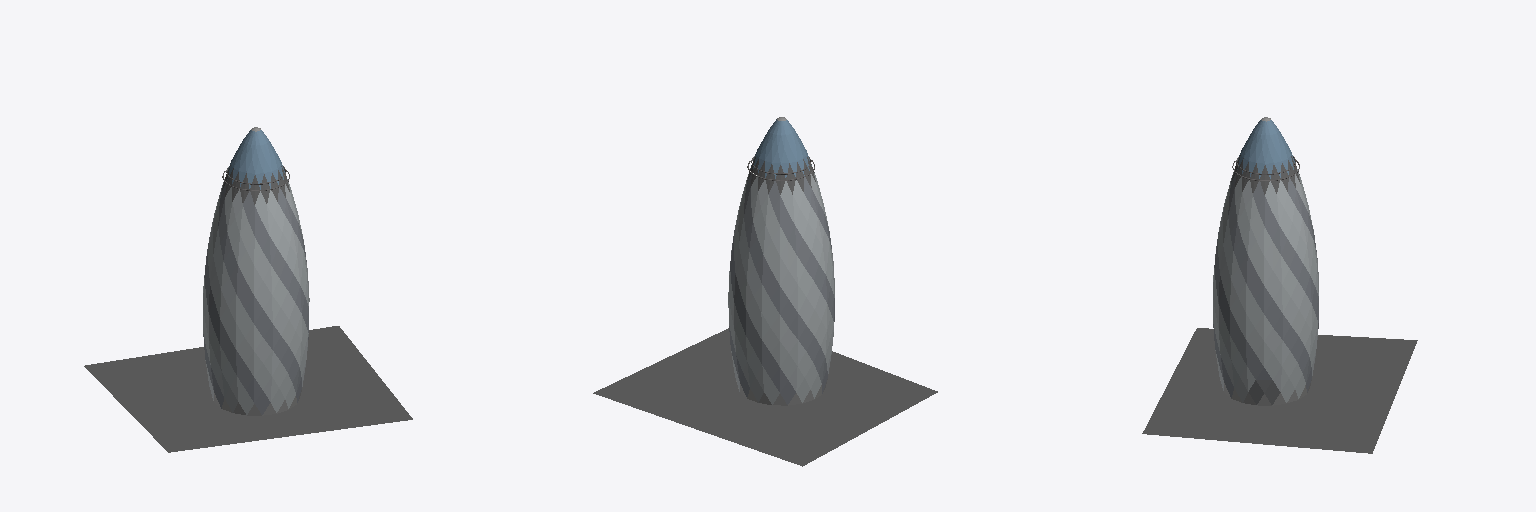
File: Gherkin.obj
3 views of the same model, side by side, from view 1: azimuth 30°, elevation 25°; view 2: azimuth 150°, elevation 25°; view 3: azimuth 270°, elevation 25° (orthographic).
Visible parts, largest first — view 1: Mesh5 G_30_St_Mary_Axe__Gherkin___London1 Model, Mesh2 Google_Earth_Snapshot G_30_St_Mary_Axe__Gherkin___London1 ; view 2: Mesh5 G_30_St_Mary_Axe__Gherkin___London1 Model, Mesh2 Google_Earth_Snapshot G_30_St_Mary_Axe__Gherkin___London1 ; view 3: Mesh5 G_30_St_Mary_Axe__Gherkin___London1 Model, Mesh2 Google_Earth_Snapshot G_30_St_Mary_Axe__Gherkin___London1 .
Part boxes in pixels (bbox=[...]): Mesh5 G_30_St_Mary_Axe__Gherkin___London1 Model: bbox=[203, 127, 309, 415]; Mesh2 Google_Earth_Snapshot G_30_St_Mary_Axe__Gherkin___London1 : bbox=[84, 326, 412, 452]; Mesh5 G_30_St_Mary_Axe__Gherkin___London1 Model: bbox=[728, 117, 834, 405]; Mesh2 Google_Earth_Snapshot G_30_St_Mary_Axe__Gherkin___London1 : bbox=[593, 328, 937, 466]; Mesh5 G_30_St_Mary_Axe__Gherkin___London1 Model: bbox=[1213, 117, 1318, 405]; Mesh2 Google_Earth_Snapshot G_30_St_Mary_Axe__Gherkin___London1 : bbox=[1142, 328, 1417, 453].
Size of the model in its own units: 180 by 180 by 167.